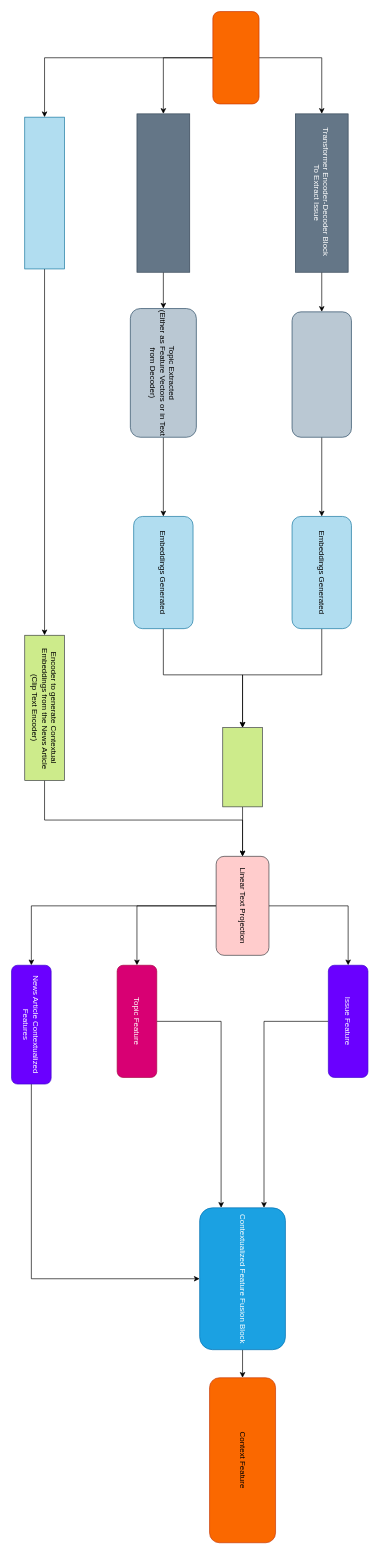
Some shapes in this 380 by 1554 pixel diagram are drawn without their labels. Here are the shapes that lost their labels. From the top down, the centre of each, then its label:
(235,57): News Article and Headline
(44,192): News Body + Headlines
(163,192): Transformer Encoder-Decoder Block To Extract Topic
(321,374): Issue Extracted (Either as Feature Vectors or in Text from Decoder)
(242,767): XLNET Encoder
